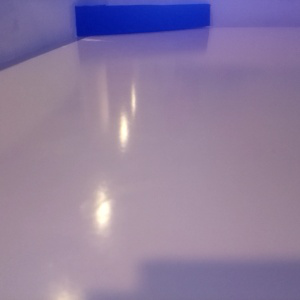zone: (76, 3, 211, 38)
